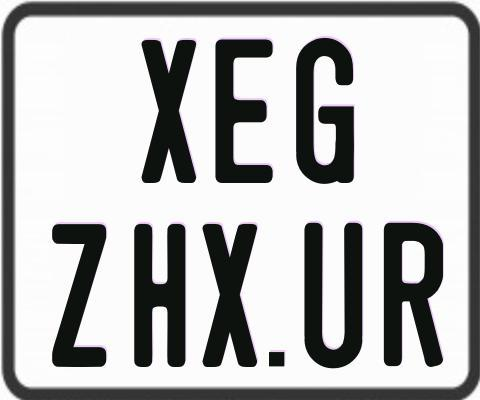E: (212, 36, 270, 182)
G: (293, 37, 351, 186)
H: (131, 222, 188, 369)
R: (383, 222, 443, 368)
U: (302, 222, 365, 370)
X: (203, 224, 260, 372), (139, 40, 197, 183)
Z: (49, 224, 103, 373)
